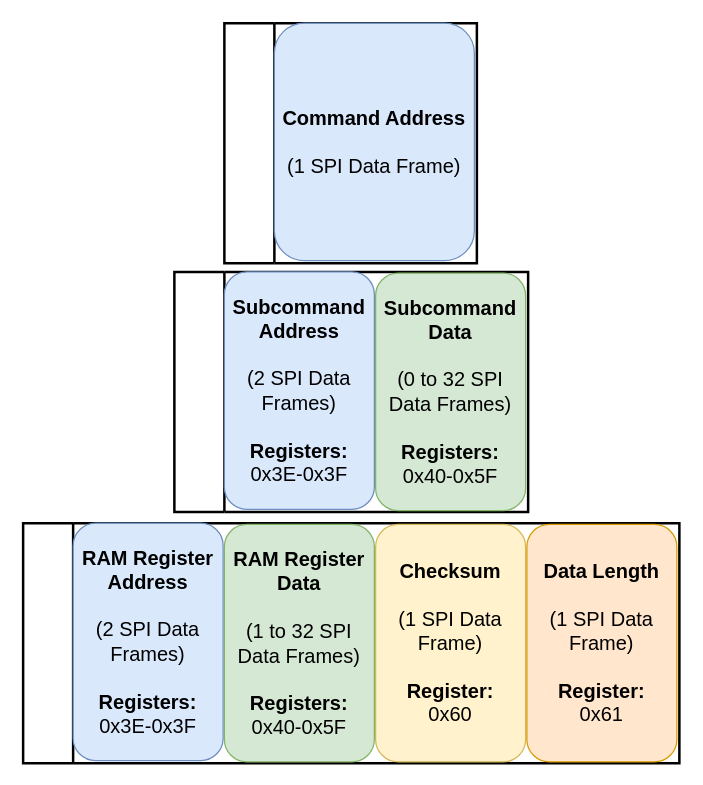
Some shapes in this 703 by 785 pixel diagram are drawn without their labels. Here are the shapes that lost their labels. From the top down, the box of each, then its label:
(222, 21, 478, 264): Direct Command Data Frame
(172, 270, 529, 512): Subcommand Data Frame
(21, 521, 680, 764): RAM Access Data Frame
